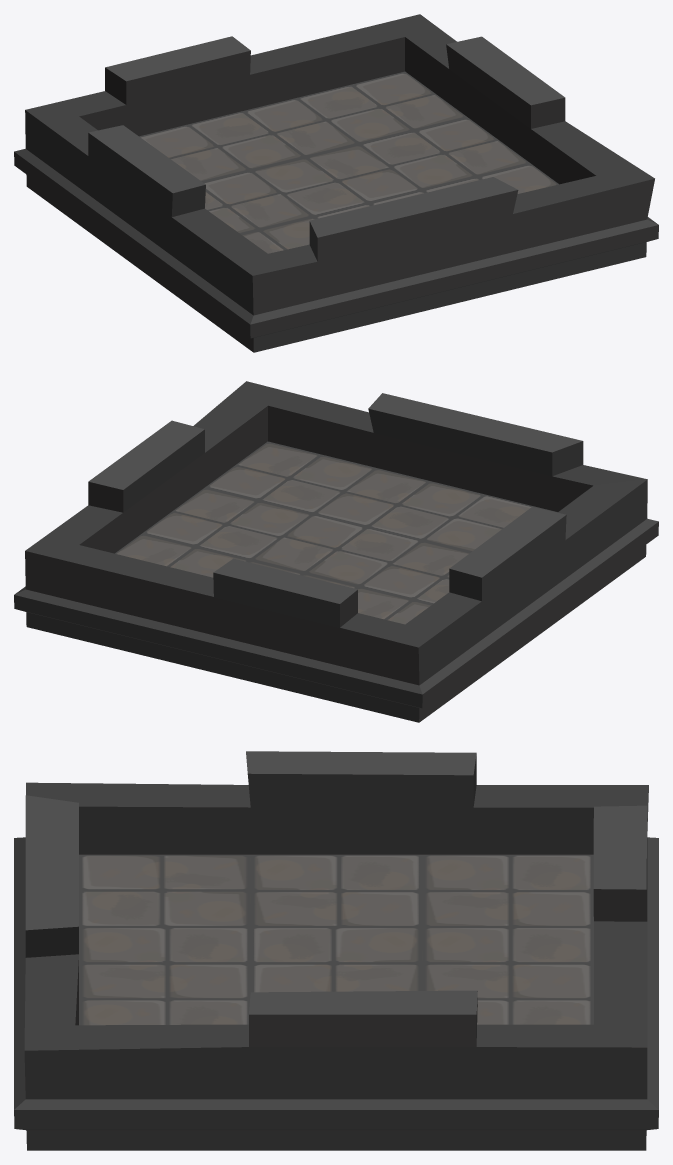
The model's file is RoofTop_D07.fbx.
3 renders of one model, top to bottom at view 1: azimuth 30°, elevation 25°; view 2: azimuth 150°, elevation 25°; view 3: azimuth 270°, elevation 25°, orthographic. The views are drawn at different scales.
Visible parts, largest first — view 1: RoofTop_D07; view 2: RoofTop_D07; view 3: RoofTop_D07.
Part boxes in pixels (left/top/right/bottom): RoofTop_D07: left=14, top=14, right=658, bottom=352; RoofTop_D07: left=14, top=381, right=658, bottom=722; RoofTop_D07: left=14, top=751, right=658, bottom=1150.
Bounding box in the file's own units: 638 × 150 × 639.
